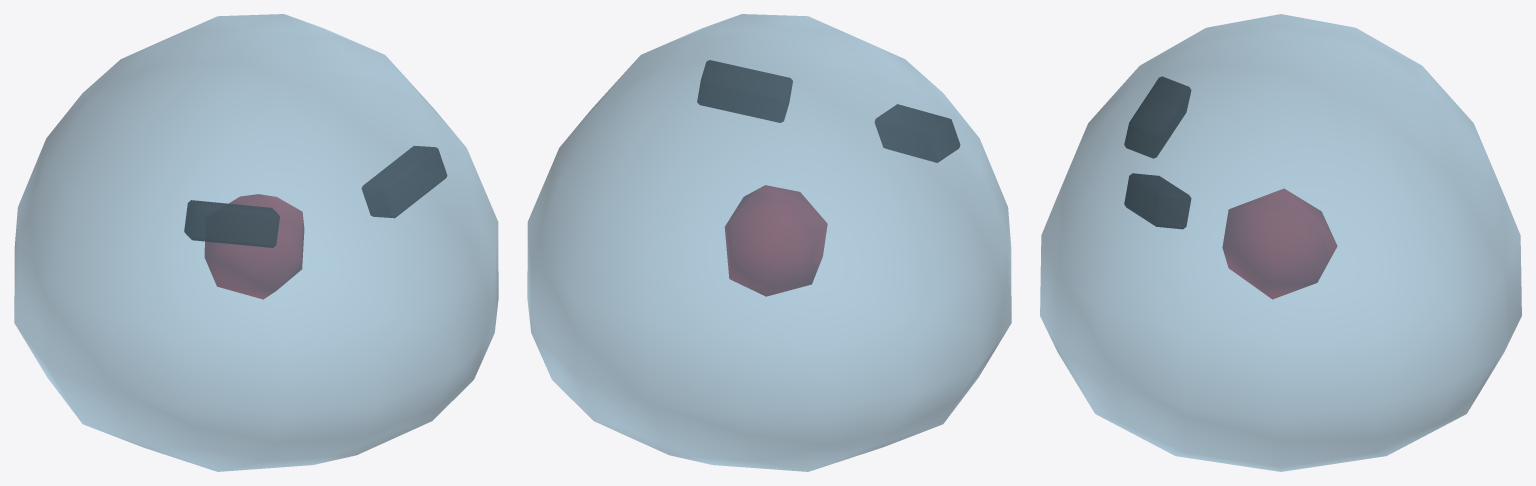
File: Slime.fbx
The picture shows the model from 3 angles, left to right: view 1: azimuth 30°, elevation 25°; view 2: azimuth 150°, elevation 25°; view 3: azimuth 270°, elevation 25°; orthographic projection.
Visible parts, largest first — view 1: GelBody, SlimeEyes, SlimeCore; view 2: GelBody, SlimeCore, SlimeEyes; view 3: GelBody, SlimeCore, SlimeEyes.
Boxes of the visible parts, x1,y1,x2,y2 form: GelBody: (14, 14, 498, 471); SlimeEyes: (184, 146, 447, 247); SlimeCore: (204, 194, 304, 299); GelBody: (527, 14, 1011, 471); SlimeCore: (724, 185, 827, 296); SlimeEyes: (697, 60, 960, 162); GelBody: (1040, 14, 1521, 471); SlimeCore: (1222, 188, 1337, 299); SlimeEyes: (1124, 76, 1191, 229).
Size of the model in its own units: 37.98 by 35.26 by 37.98.
